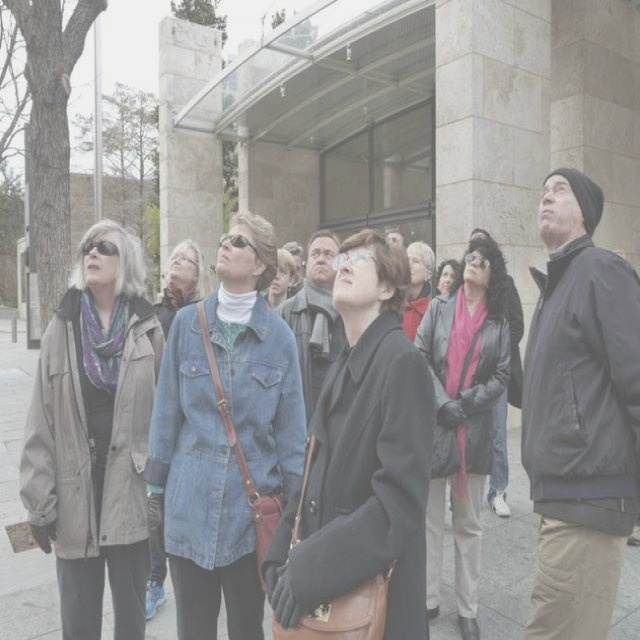pessoa: (252, 220, 438, 639), (140, 210, 310, 639), (16, 214, 172, 638), (517, 162, 639, 638), (406, 232, 516, 638), (468, 226, 526, 520), (272, 227, 347, 432), (150, 238, 214, 346), (401, 238, 438, 344), (264, 239, 306, 305), (436, 254, 464, 298), (384, 225, 409, 247), (626, 522, 639, 547)
